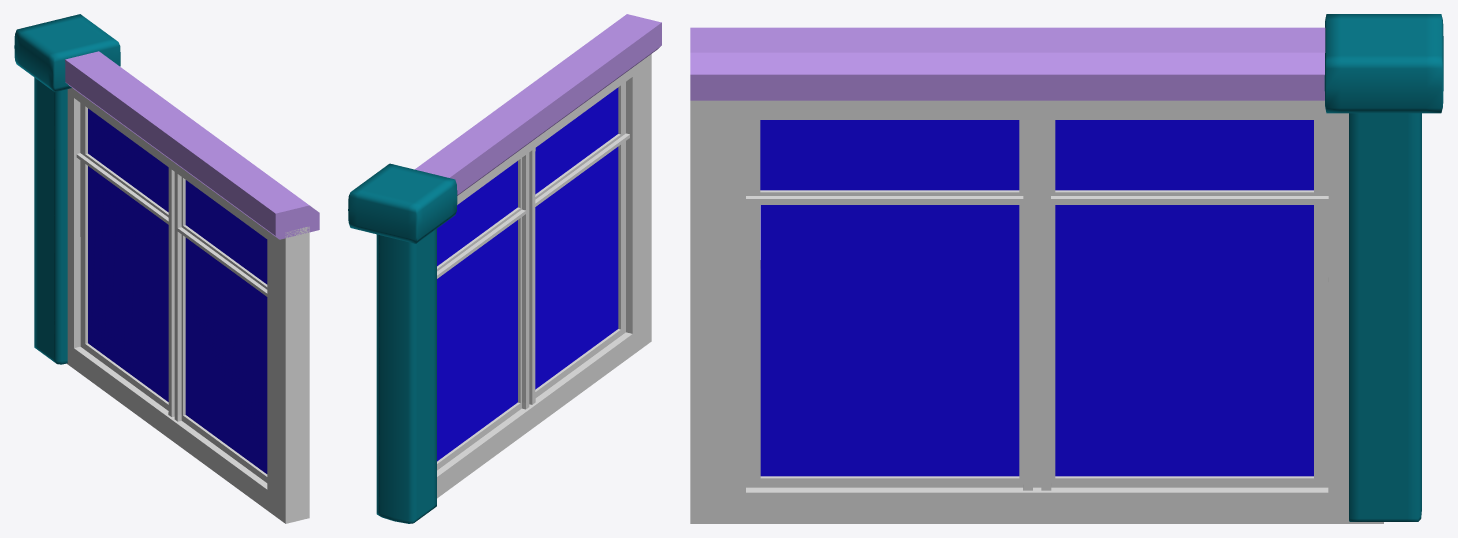
The model's file is WindowSmall.FBX.
3 views of the same model, side by side, from view 1: azimuth 30°, elevation 25°; view 2: azimuth 150°, elevation 25°; view 3: azimuth 270°, elevation 25° (orthographic). The views are drawn at different scales.
Visible parts, largest first — view 1: Glass, Window2, Wall.detail, Roof ornament, Window1; view 2: Glass, Wall.detail, Window2, Roof ornament, Window1; view 3: Glass, Window2, Roof ornament, Wall.detail, Window1.
Part boxes in pixels (x1=…): Glass: x1=88, y1=108, x2=267, y2=473; Window2: x1=67, y1=88, x2=309, y2=523; Wall.detail: x1=14, y1=14, x2=120, y2=364; Roof ornament: x1=65, y1=51, x2=319, y2=239; Window1: x1=76, y1=103, x2=302, y2=514; Glass: x1=437, y1=87, x2=618, y2=461; Wall.detail: x1=348, y1=163, x2=457, y2=523; Window2: x1=437, y1=54, x2=651, y2=498; Roof ornament: x1=415, y1=14, x2=661, y2=195; Window1: x1=437, y1=82, x2=629, y2=470; Glass: x1=760, y1=120, x2=1313, y2=476; Window2: x1=690, y1=100, x2=1383, y2=523; Roof ornament: x1=690, y1=27, x2=1325, y2=100; Wall.detail: x1=1324, y1=14, x2=1443, y2=521; Window1: x1=746, y1=115, x2=1328, y2=490.
Bounding box in the file's own units: 66.48 × 299 × 428.
